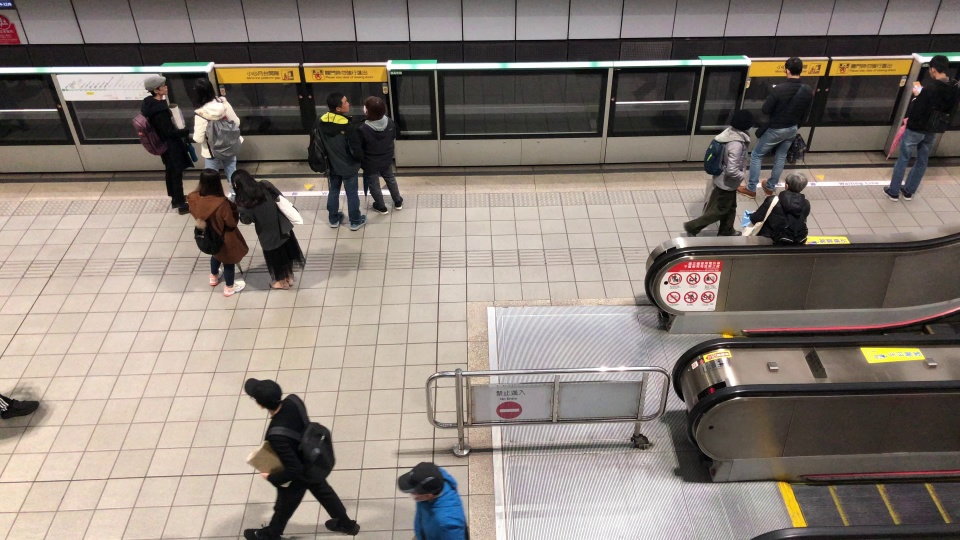person_head: (391, 461, 445, 506), (240, 375, 283, 416), (194, 168, 227, 201), (185, 77, 216, 108), (229, 169, 258, 201), (925, 54, 952, 82), (324, 90, 352, 116), (144, 74, 169, 101), (362, 95, 387, 122), (727, 108, 755, 132), (780, 54, 804, 79), (784, 173, 808, 197)
person_vbox: (239, 374, 361, 540), (880, 53, 960, 204), (738, 54, 815, 199), (227, 167, 309, 294), (131, 74, 199, 217), (178, 167, 249, 300), (306, 90, 369, 231), (178, 75, 246, 203), (679, 108, 743, 235), (345, 94, 406, 218), (384, 460, 468, 540), (741, 170, 816, 247)
